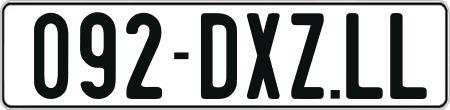0: (34, 10, 69, 97)
2: (123, 11, 164, 99)
9: (79, 10, 116, 99)
D: (198, 12, 234, 100)
L: (346, 13, 389, 102), (387, 13, 424, 105)
X: (245, 11, 278, 102)
Z: (289, 11, 324, 102)
